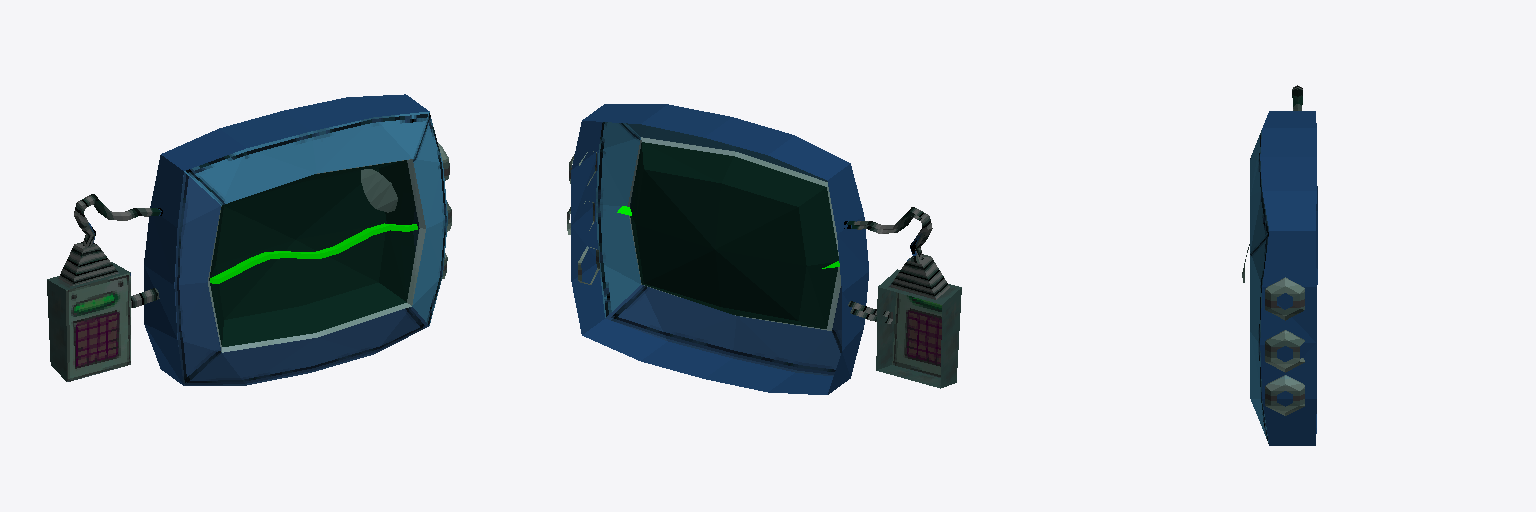
3 renders of one model, left to right at view 1: azimuth 30°, elevation 25°; view 2: azimuth 150°, elevation 25°; view 3: azimuth 270°, elevation 25°, orthographic.
Visible parts, largest first — view 1: Material_#99, Material_#100; view 2: Material_#99; view 3: Material_#99.
Boxes of the visible parts, x1,y1,x2,y2 form: Material_#99: [47, 94, 451, 385]; Material_#100: [210, 169, 417, 283]; Material_#99: [567, 104, 961, 394]; Material_#99: [1250, 85, 1317, 445].
Bounding box in the file's own units: 15.7 × 9.44 × 2.7.
Materials: 1 (1 with a texture image).